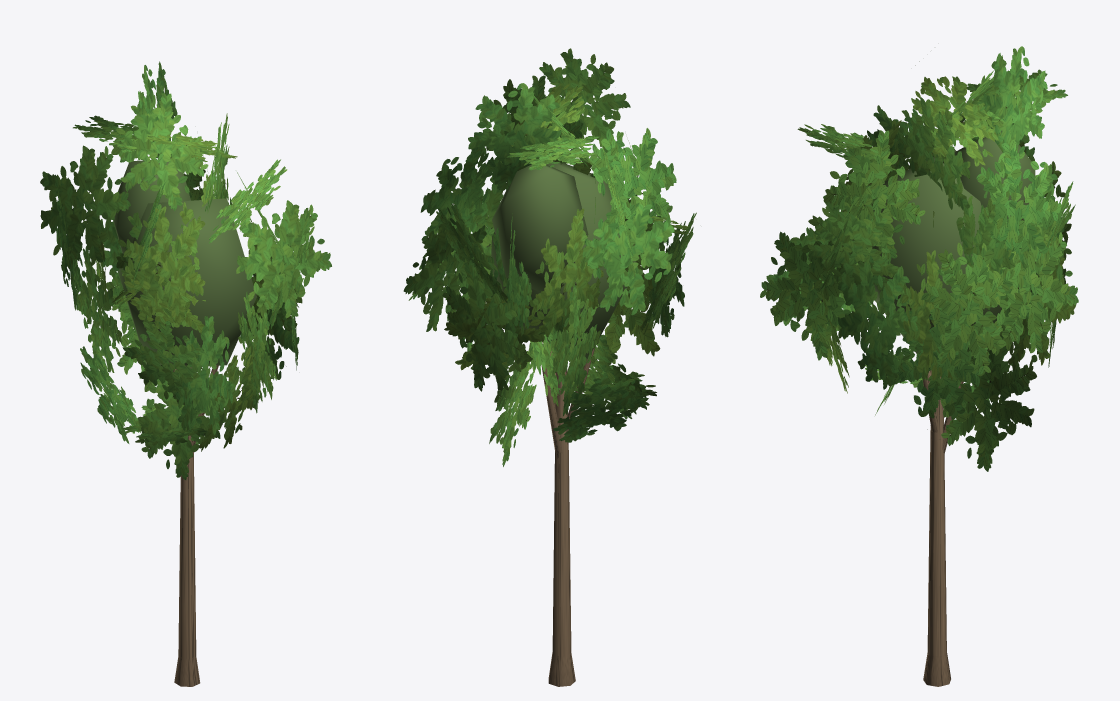
3 renders of one model, left to right at view 1: azimuth 30°, elevation 25°; view 2: azimuth 150°, elevation 25°; view 3: azimuth 270°, elevation 25°, orthographic. The views are drawn at different scales.
Parts seen in each view (by area): view 1: tree_5664; view 2: tree_5664; view 3: tree_5664.
Boxes of the visible parts, box(x1,y1,x2,y2) form: tree_5664: box(40, 61, 331, 686); tree_5664: box(403, 48, 696, 686); tree_5664: box(760, 46, 1078, 686).
Size of the model in its own units: 5.17 by 11.84 by 5.79.
Materials: 1 (1 with a texture image).
